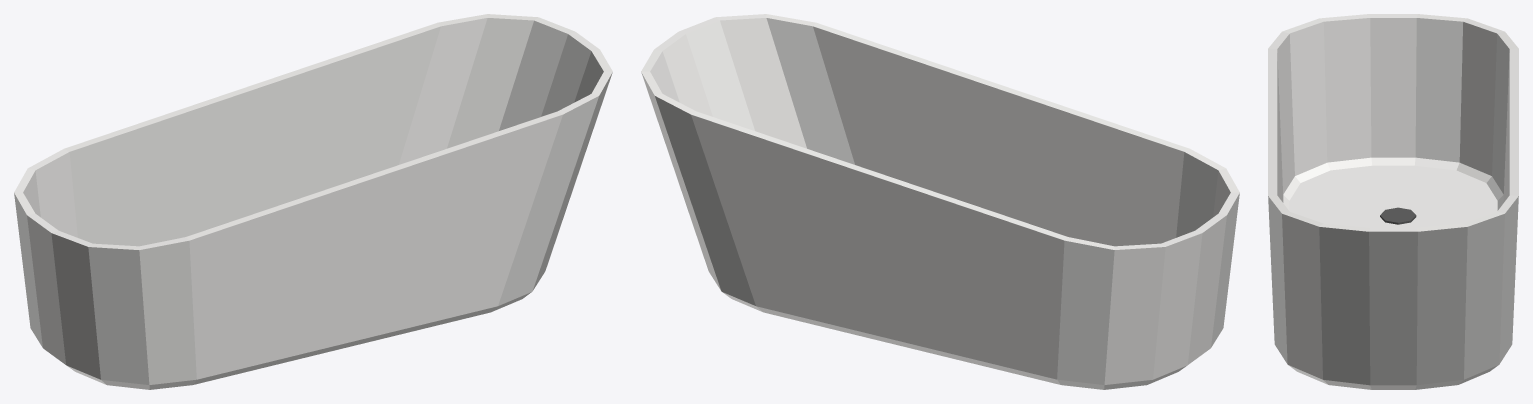
File: Bath_4.fbx
3 renders of one model, left to right at view 1: azimuth 30°, elevation 25°; view 2: azimuth 150°, elevation 25°; view 3: azimuth 270°, elevation 25°, orthographic.
Parts seen in each view (by area): view 1: Bath_4; view 2: Bath_4; view 3: Bath_4.
Part boxes in pixels (x1,y1,x2,y2): Bath_4: (14, 14, 612, 389); Bath_4: (641, 14, 1239, 389); Bath_4: (1268, 14, 1518, 389).
Size of the model in its own units: 335 by 133 by 114.
